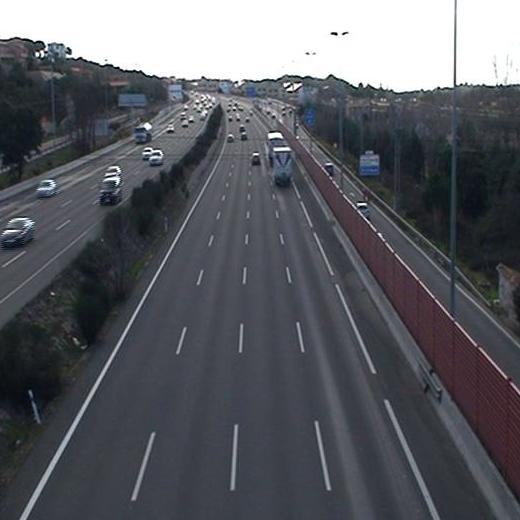car: (250, 153, 261, 166)
truck: (273, 147, 292, 187)
